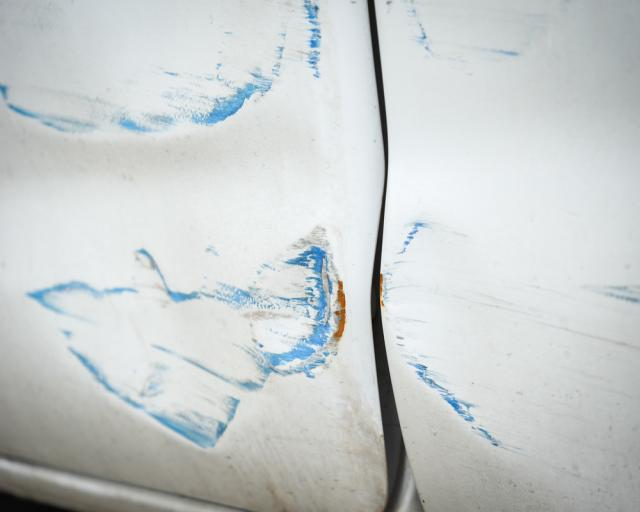scratch: (27, 224, 348, 454), (381, 210, 640, 490), (0, 0, 326, 135), (399, 0, 567, 67)
